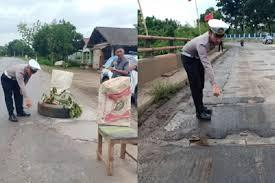Pothole: (154, 129, 275, 152), (206, 94, 269, 115)
